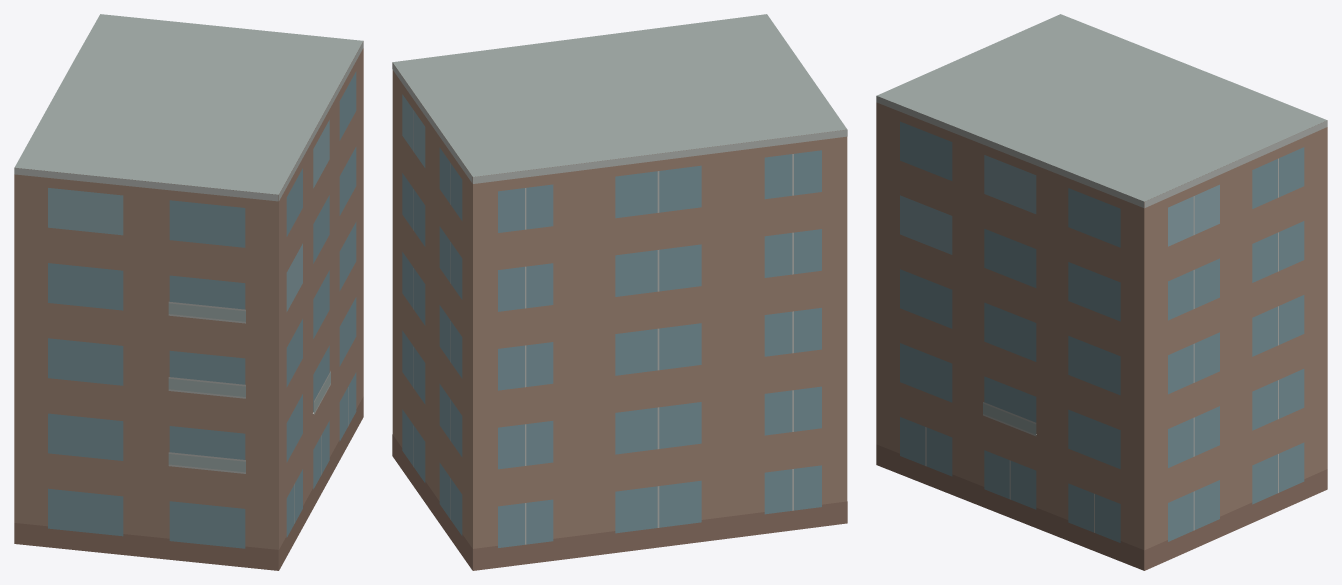
File: survey-upis-32881480.glb
The picture shows the model from 3 angles, left to right: view 1: azimuth 30°, elevation 25°; view 2: azimuth 150°, elevation 25°; view 3: azimuth 270°, elevation 25°; orthographic projection. The views are drawn at different scales.
Visible parts, largest first — view 1: survey-upis-32881480.tmp; view 2: survey-upis-32881480.tmp; view 3: survey-upis-32881480.tmp.
Part boxes in pixels (<box>): survey-upis-32881480.tmp: <box>14,14,363,570</box>; survey-upis-32881480.tmp: <box>392,14,847,570</box>; survey-upis-32881480.tmp: <box>876,14,1327,570</box>.
Size of the model in its own units: 14.83 by 13.6 by 15.07.
